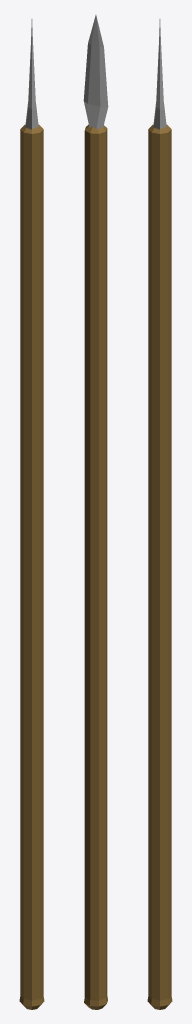
File: Spear.fbx
The picture shows the model from 3 angles, left to right: view 1: azimuth 90°, elevation 25°; view 2: azimuth 150°, elevation 25°; view 3: azimuth 270°, elevation 25°; orthographic projection.
Visible parts, largest first — view 1: Spear; view 2: Spear; view 3: Spear.
Part boxes in pixels (bbox=[...]): Spear: bbox=[19, 19, 44, 1009]; Spear: bbox=[83, 15, 108, 1009]; Spear: bbox=[147, 19, 172, 1009].
Size of the model in its own units: 5.45 by 210 by 4.82.
